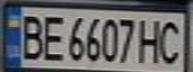0: (100, 15, 121, 63)
6: (63, 12, 87, 62), (81, 15, 103, 63)
7: (115, 16, 139, 64)
B: (15, 10, 48, 61)
C: (154, 17, 190, 66)
E: (39, 11, 66, 62)
H: (136, 16, 166, 65)
